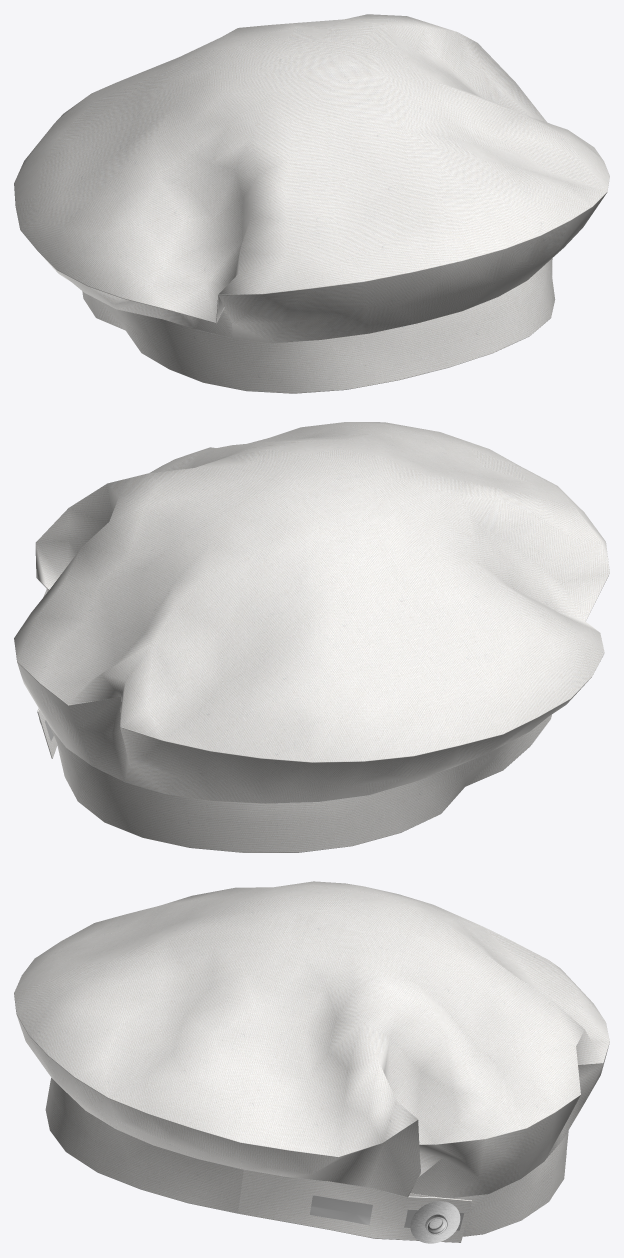
The model's file is baret.fbx.
The picture shows the model from 3 angles, top to bottom: view 1: azimuth 30°, elevation 25°; view 2: azimuth 150°, elevation 25°; view 3: azimuth 270°, elevation 25°; orthographic projection. The views are drawn at different scales.
Visible parts, largest first — view 1: Pattern2D_1491516, Pattern2D_1744507, Pattern2D_1530841; view 2: Pattern2D_1491516, Pattern2D_1744507, Pattern2D_1530841; view 3: Pattern2D_1491516, Pattern2D_1530841, Pattern2D_1744507, Pattern2D_1744496, MatShape_4963, MatShape_5511.
Boxes of the visible parts, x1,y1,x2,y2 form: Pattern2D_1491516: (14, 14, 609, 322); Pattern2D_1744507: (82, 258, 555, 393); Pattern2D_1530841: (15, 123, 609, 342); Pattern2D_1491516: (14, 422, 609, 762); Pattern2D_1744507: (50, 714, 551, 852); Pattern2D_1530841: (15, 543, 609, 803); Pattern2D_1491516: (14, 881, 609, 1157); Pattern2D_1530841: (14, 980, 609, 1198); Pattern2D_1744507: (45, 1078, 568, 1236); Pattern2D_1744496: (238, 1169, 471, 1242); MatShape_4963: (410, 1201, 460, 1243); MatShape_5511: (310, 1195, 372, 1225).
Size of the model in its own units: 21.52 by 11.12 by 22.95.
